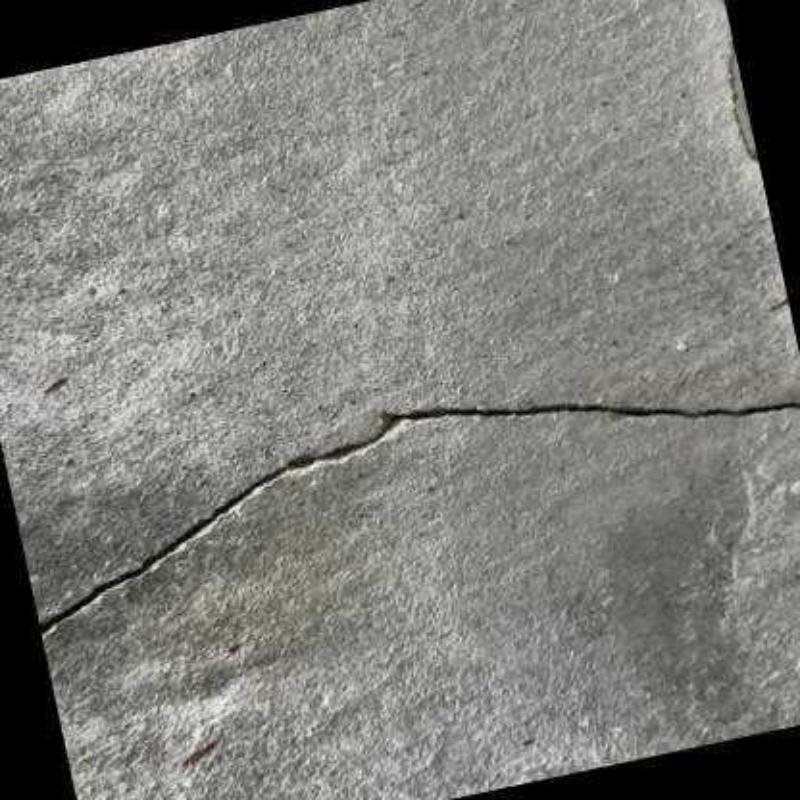crack: (39, 397, 800, 635)
